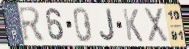0: (73, 6, 93, 44)
6: (45, 7, 66, 43)
J: (99, 8, 117, 42)
K: (121, 7, 145, 43)
R: (17, 6, 47, 43)
X: (142, 7, 170, 45)
